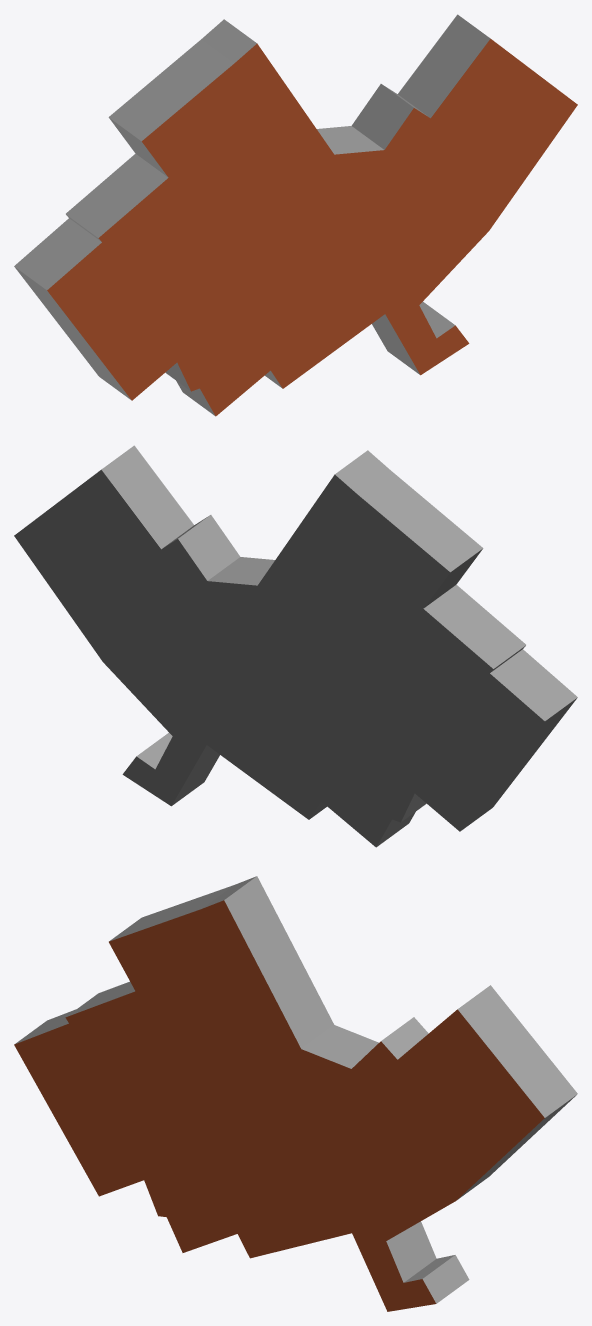
Rendered from construction_5014_assumed_A_Casa_h6m.obj.
3 renders of one model, top to bottom at view 1: azimuth 30°, elevation 25°; view 2: azimuth 150°, elevation 25°; view 3: azimuth 330°, elevation 25°, orthographic.
Visible parts, largest first — view 1: construction_5014_assumed_A_Casa; view 2: construction_5014_assumed_A_Casa; view 3: construction_5014_assumed_A_Casa.
Part boxes in pixels (x1,y1,x2,y2): construction_5014_assumed_A_Casa: (14, 14, 577, 416); construction_5014_assumed_A_Casa: (14, 445, 577, 847); construction_5014_assumed_A_Casa: (14, 876, 577, 1311).
Size of the model in its own units: 55.62 by 37.22 by 6.
